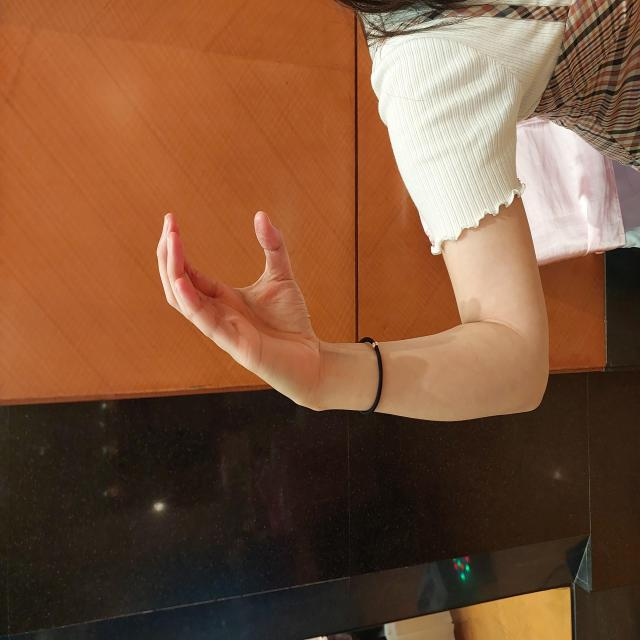C: (133, 174, 344, 444)
